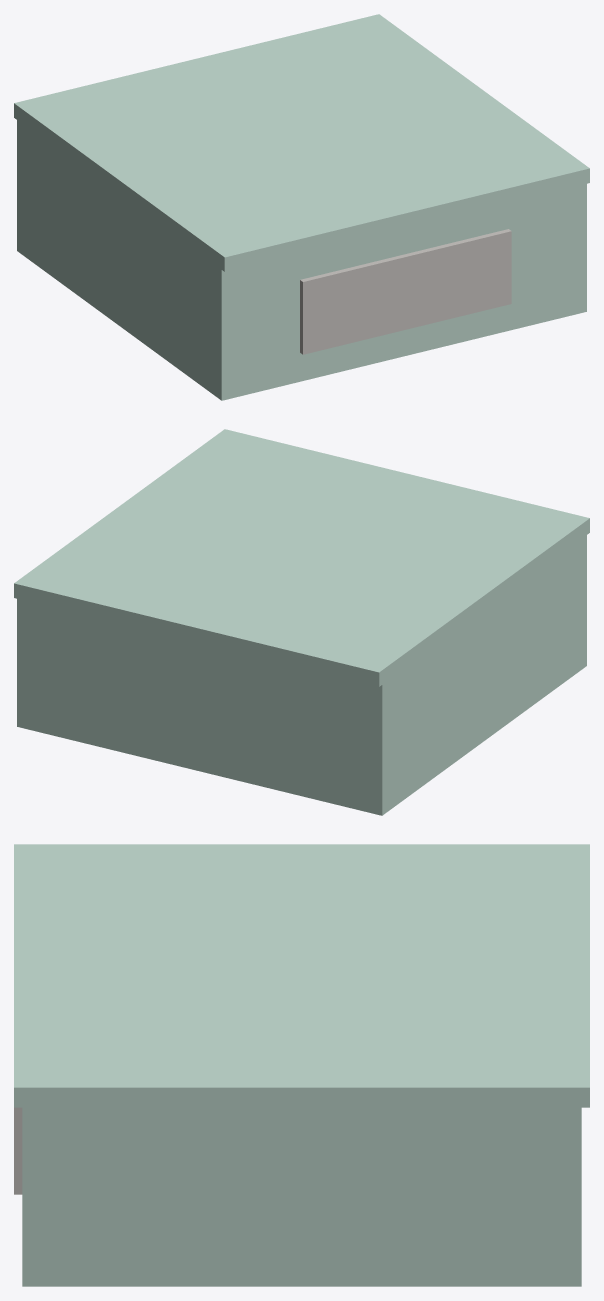
Rendered from boite_vis.glb.
3 views of the same model, one above another, from view 1: azimuth 30°, elevation 25°; view 2: azimuth 150°, elevation 25°; view 3: azimuth 270°, elevation 25° (orthographic). The views are drawn at different scales.
Visible parts, largest first — view 1: bois, etiquette; view 2: bois; view 3: bois, etiquette.
Part boxes in pixels (x1=…): bois: x1=14, y1=14, x2=589, y2=400; etiquette: x1=300, y1=229, x2=511, y2=354; bois: x1=14, y1=429, x2=589, y2=815; bois: x1=14, y1=844, x2=589, y2=1286; etiquette: x1=14, y1=1107, x2=22, y2=1194.
Size of the model in its own units: 0.21 by 0.08 by 0.21.
